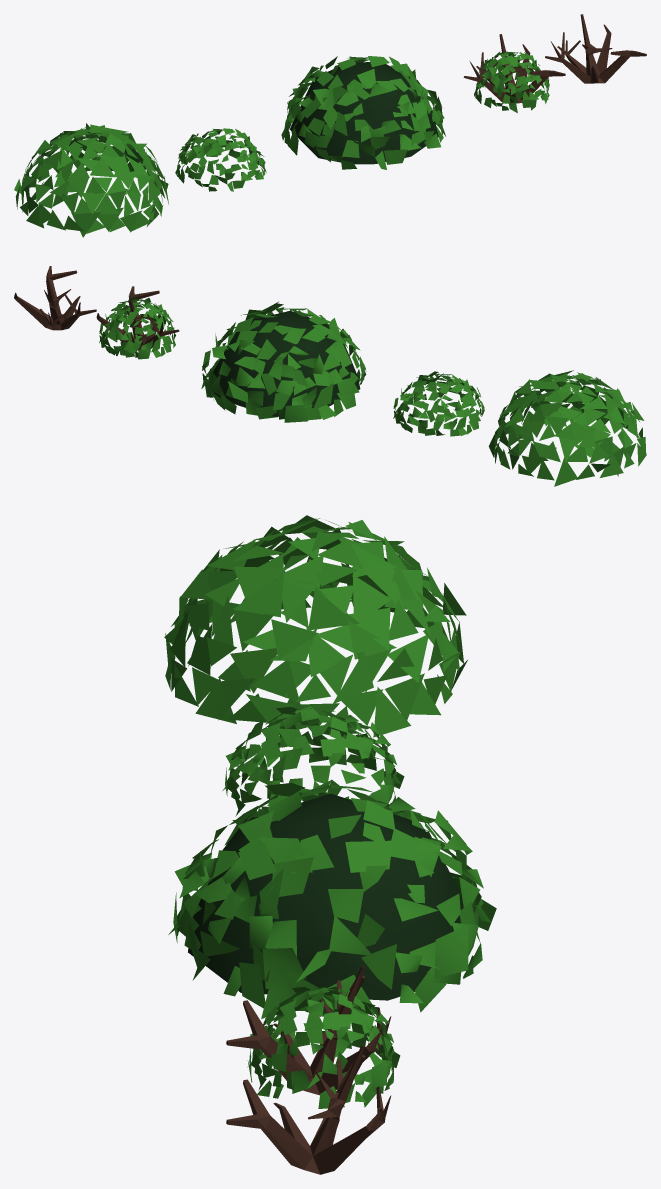
The model's file is Bushes.fbx.
3 views of the same model, one above another, from view 1: azimuth 30°, elevation 25°; view 2: azimuth 150°, elevation 25°; view 3: azimuth 270°, elevation 25° (orthographic). The views are drawn at different scales.
Visible parts, largest first — view 1: Bush_green, Bush_empy_160_t, Bush_with_wood, Bush_green_empty_260T, Bush_wood_only; view 2: Bush_green, Bush_empy_160_t, Bush_green_empty_260T, Bush_with_wood, Bush_wood_only; view 3: Bush_green, Bush_empy_160_t, Bush_with_wood, Bush_green_empty_260T, Bush_wood_only.
Part boxes in pixels (box(x1,y1,x2,y2)): Bush_green: box(281, 56, 445, 169); Bush_empy_160_t: box(14, 123, 168, 237); Bush_with_wood: box(463, 34, 565, 113); Bush_green_empty_260T: box(175, 128, 266, 191); Bush_wood_only: box(545, 14, 646, 83); Bush_green: box(201, 301, 366, 422); Bush_empy_160_t: box(488, 370, 646, 486); Bush_green_empty_260T: box(393, 371, 484, 436); Bush_with_wood: box(96, 286, 179, 359); Bush_wood_only: box(14, 266, 96, 330); Bush_green: box(168, 780, 496, 1018); Bush_empy_160_t: box(164, 515, 467, 738); Bush_with_wood: box(226, 966, 400, 1108); Bush_green_empty_260T: box(222, 705, 404, 816); Bush_wood_only: box(226, 1045, 391, 1174).
Bounding box in the file's own units: 819 × 197 × 105.
